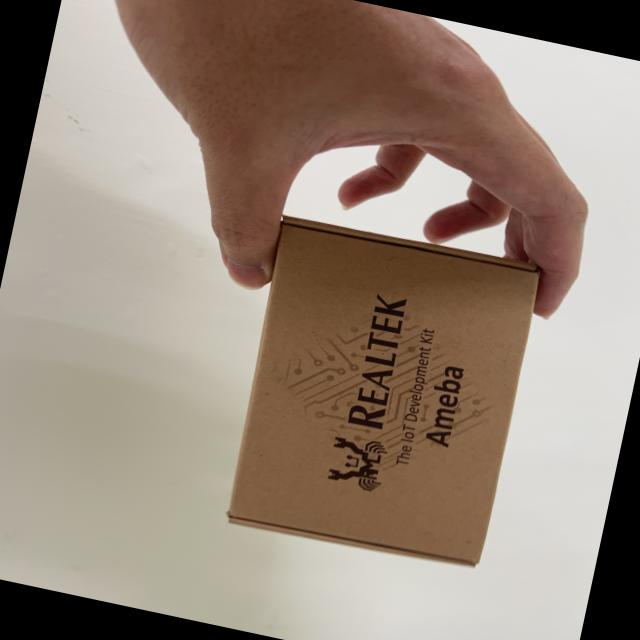box: (208, 195, 640, 616)
